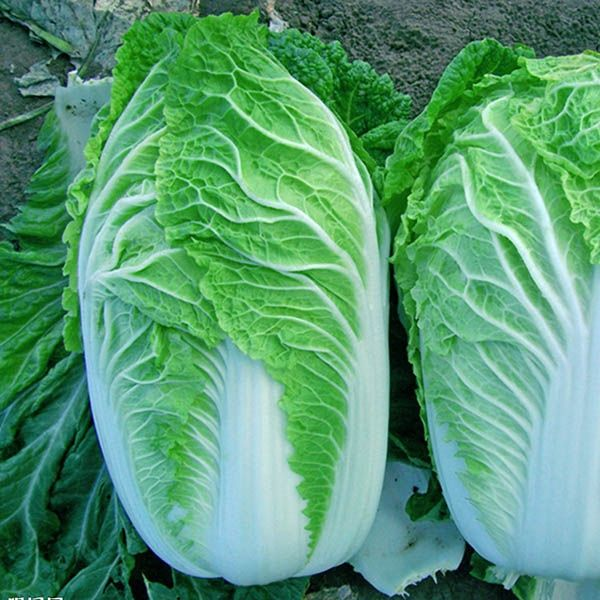baicai: (98, 15, 379, 564), (422, 41, 598, 579)
